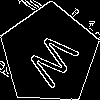W: (24, 30, 87, 96)
